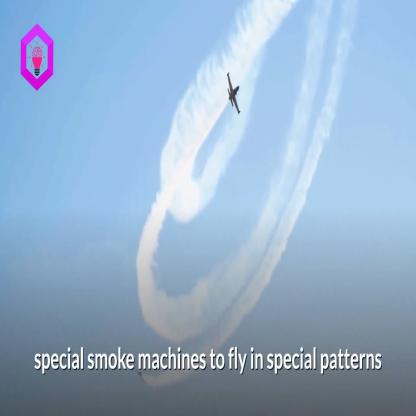plane: (222, 67, 243, 123)
